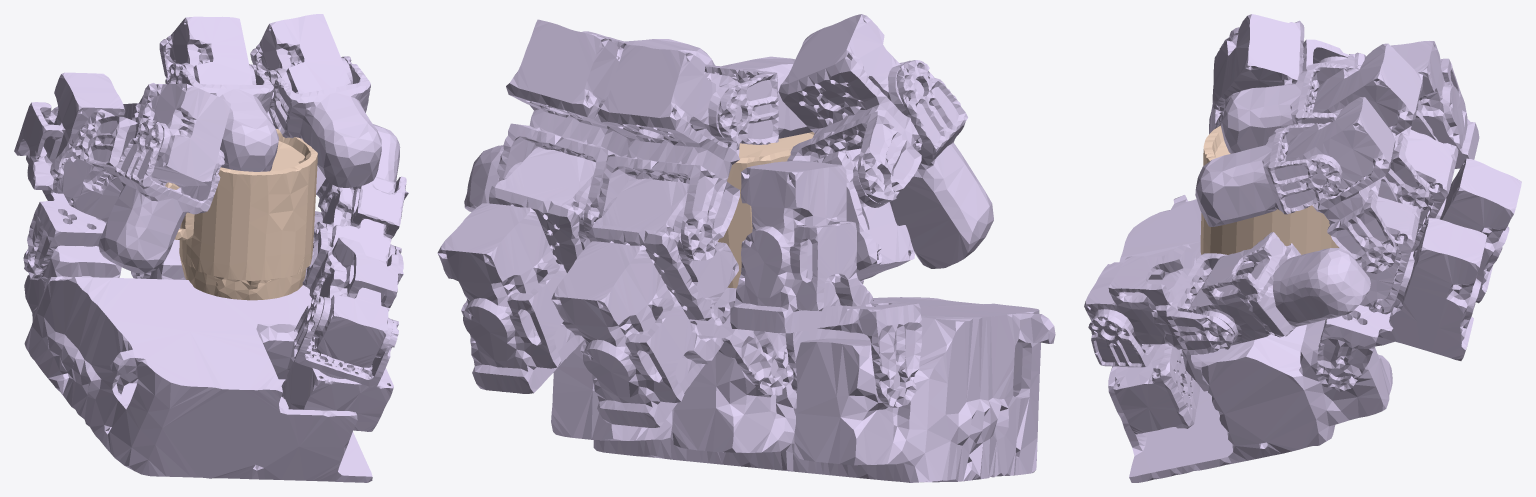
Rendered from f3c44431ccb7b8-final.glb.
3 views of the same model, side by side, from view 1: azimuth 30°, elevation 25°; view 2: azimuth 150°, elevation 25°; view 3: azimuth 270°, elevation 25° (orthographic). The views are drawn at different scales.
Visible parts, largest first — view 1: LEAP_hand, world; view 2: LEAP_hand, world; view 3: LEAP_hand, world.
Boxes of the visible parts, x1,y1,x2,y2 form: LEAP_hand: (14, 14, 408, 482); world: (165, 129, 317, 300); LEAP_hand: (437, 14, 1055, 482); world: (718, 132, 814, 288); LEAP_hand: (1084, 14, 1521, 482); world: (1200, 125, 1339, 254).
Bounding box in the file's own units: 0.1594 × 0.1672 × 0.1627.
